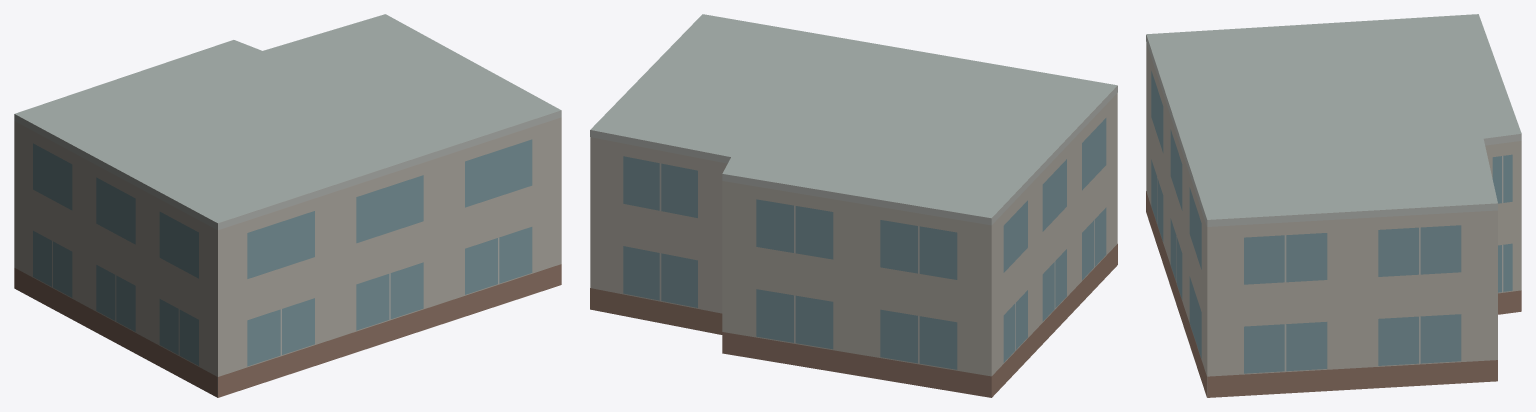
Rendered from survey-upis-32575529.glb.
The picture shows the model from 3 angles, left to right: view 1: azimuth 30°, elevation 25°; view 2: azimuth 150°, elevation 25°; view 3: azimuth 270°, elevation 25°; orthographic projection. The views are drawn at different scales.
Visible parts, largest first — view 1: survey-upis-32575529.tmp; view 2: survey-upis-32575529.tmp; view 3: survey-upis-32575529.tmp.
Boxes of the visible parts, <box> form: survey-upis-32575529.tmp: <box>14,14,561,397</box>; survey-upis-32575529.tmp: <box>590,14,1117,397</box>; survey-upis-32575529.tmp: <box>1146,14,1521,397</box>.
Bounding box in the file's own units: 15.16 × 6.1 × 11.68.
